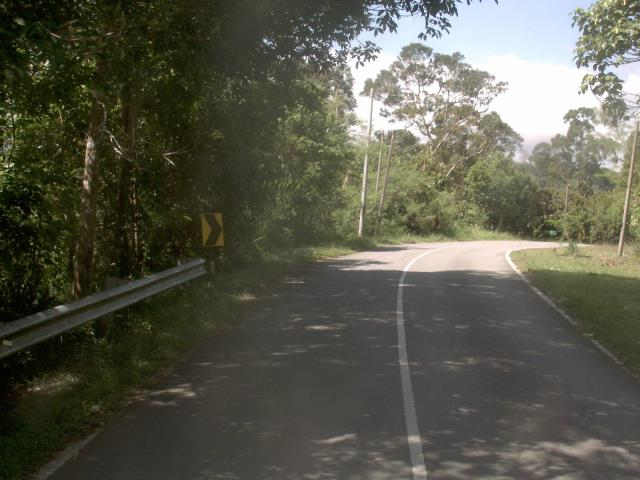traffic_sign: (194, 205, 232, 256)
